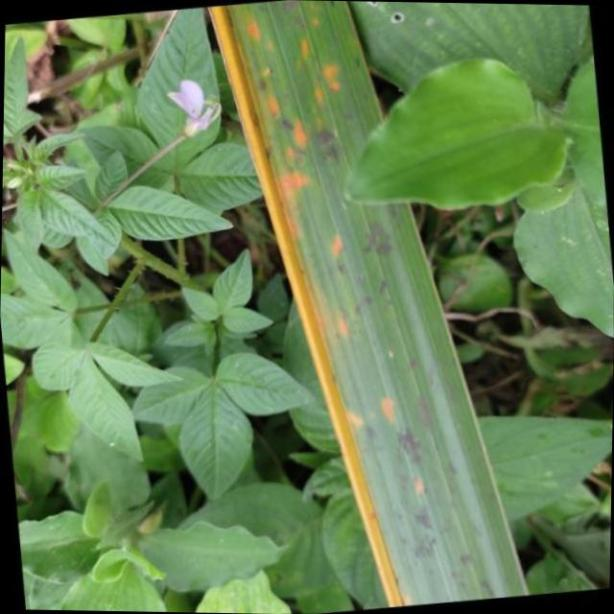Megnesium: (207, 0, 532, 614)
